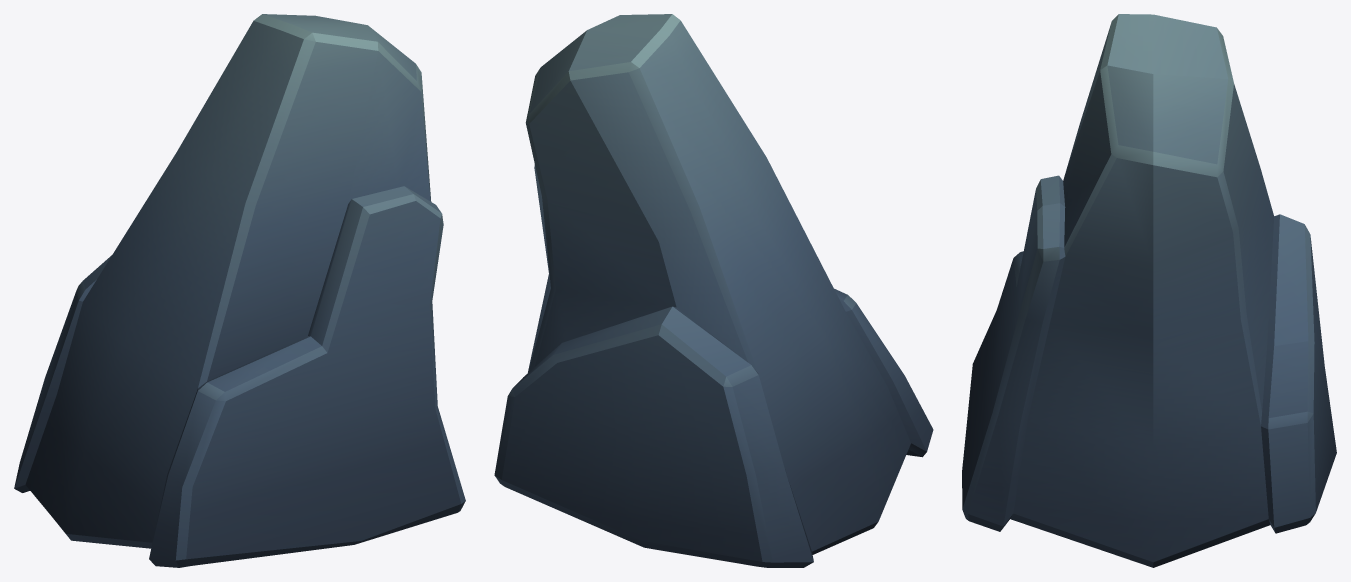
The model's file is rock_medium_4.glb.
The picture shows the model from 3 angles, left to right: view 1: azimuth 30°, elevation 25°; view 2: azimuth 150°, elevation 25°; view 3: azimuth 270°, elevation 25°; orthographic projection. The views are drawn at different scales.
Parts seen in each view (by area): view 1: rock_medium_4; view 2: rock_medium_4; view 3: rock_medium_4.
Boxes of the visible parts, x1,y1,x2,y2 form: rock_medium_4: [14, 14, 465, 567]; rock_medium_4: [494, 14, 933, 567]; rock_medium_4: [962, 14, 1336, 567].
Size of the model in its own units: 3.36 by 4.31 by 2.91.
1 material, 1 textured.
